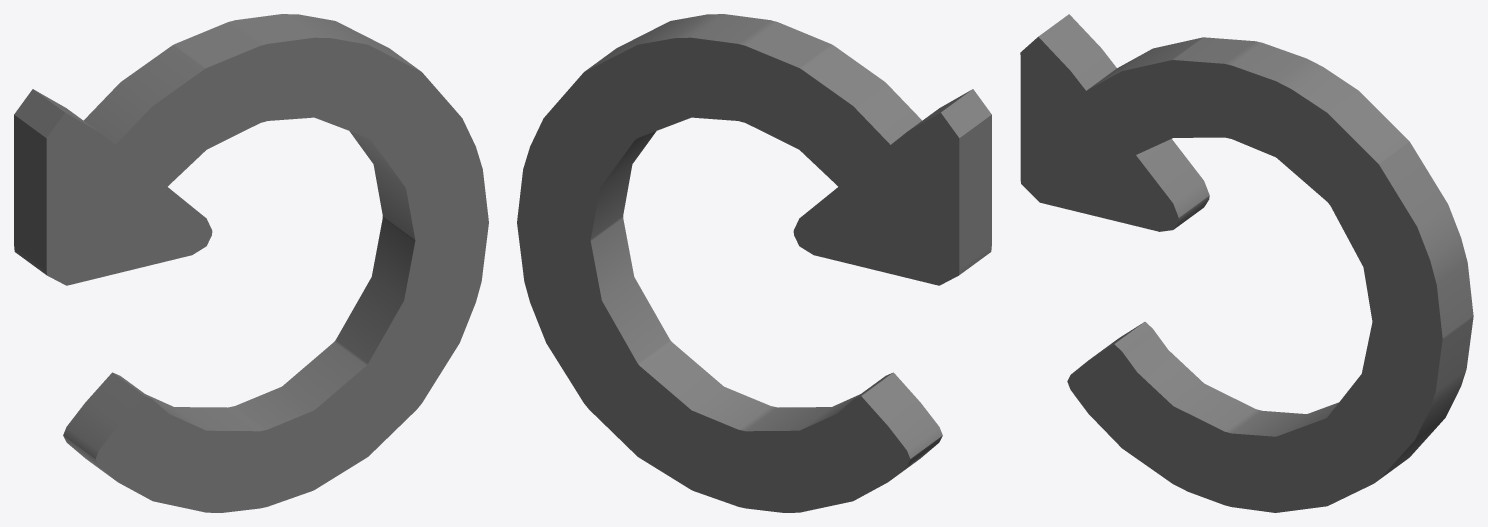
The model's file is fa-rotate-left.obj.
3 renders of one model, left to right at view 1: azimuth 30°, elevation 25°; view 2: azimuth 150°, elevation 25°; view 3: azimuth 330°, elevation 25°, orthographic. The views are drawn at different scales.
Size of the model in its own units: 0.9071 by 0.9071 by 0.1152.
Materials: 1 (1 with a texture image).
